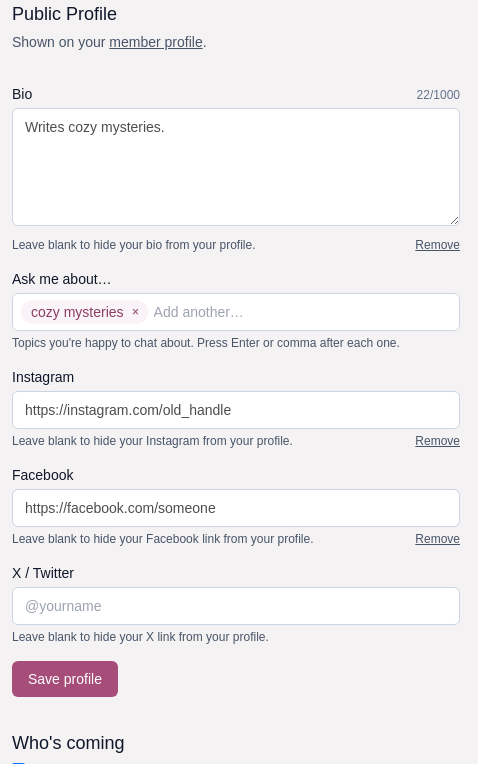
Test: ProfilePanel › saves bio / Facebook / X together and shows the pending-sync state
The width and height of the screenshot is (478, 764).
Replace the text in the text box labelled "Bio" with "New bio" at coordinates (236, 167), box [12,108,460,226]
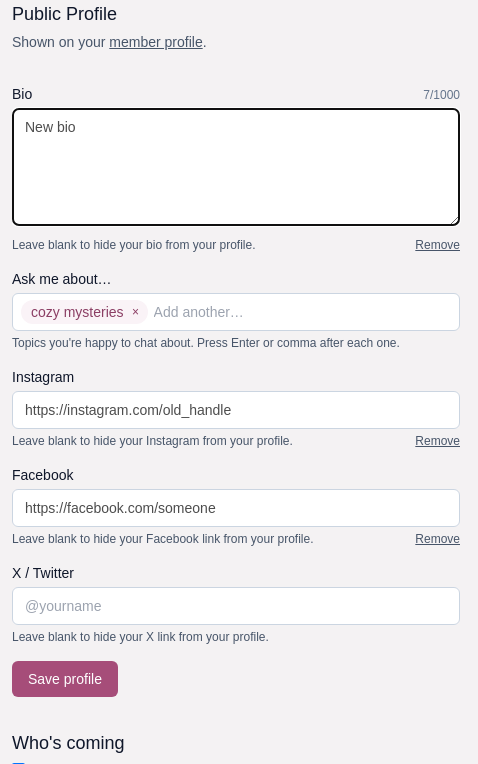
Type "@hedgie" into the field labelled "X / Twitter" at coordinates (236, 606), box [12,587,460,625]
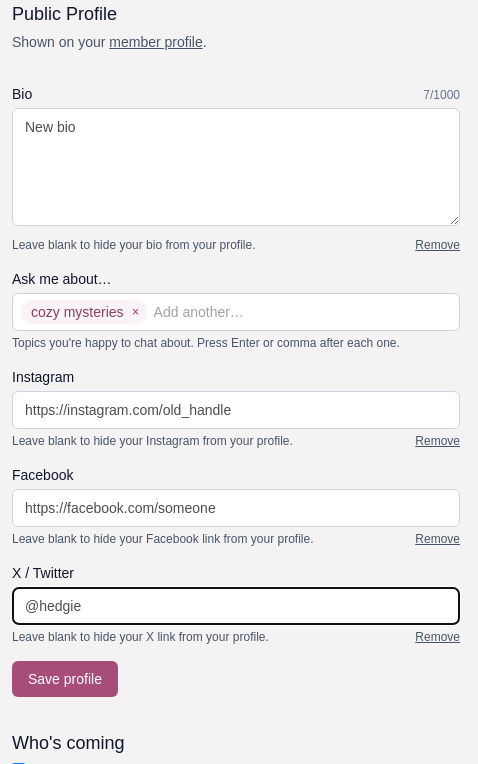
Click the button "Save profile" at coordinates (65, 679), box [12,661,118,697]
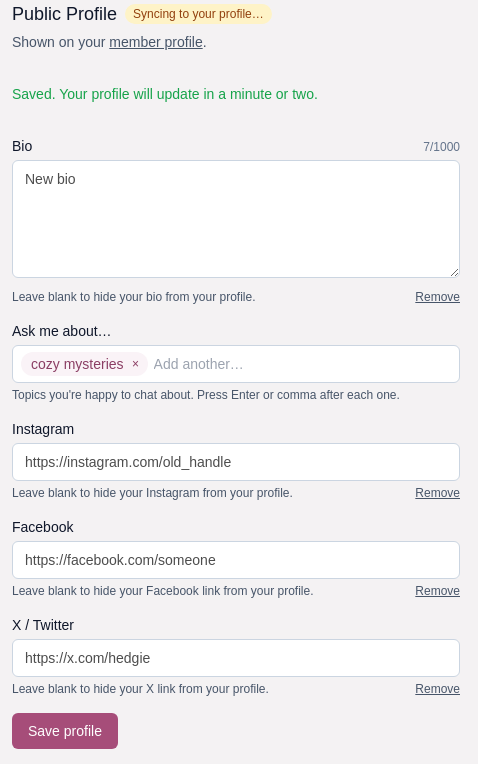
Expected: the message shows "Saved. Your profile will update", [12,86,318,102]
Expected: the text "Syncing to your profile…" is shown, [125,4,272,24]
